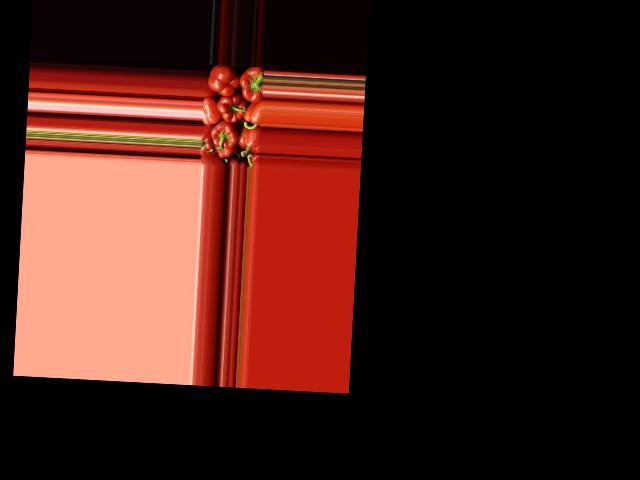bell_pepper: (202, 96, 219, 125)
